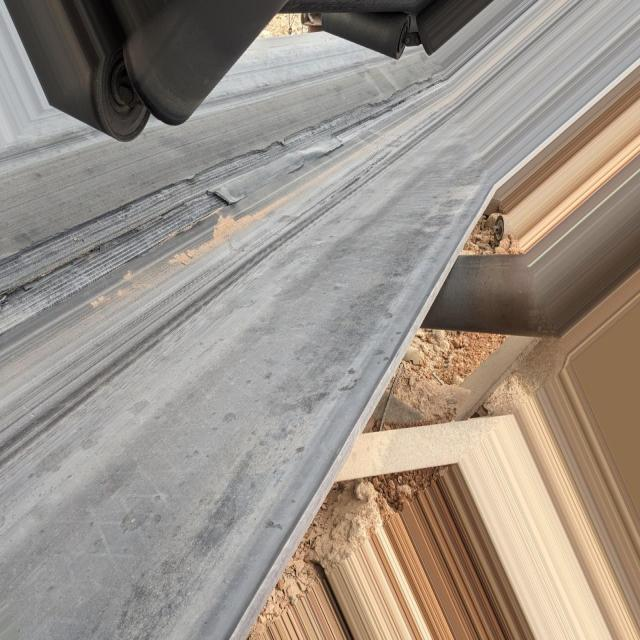Roller: (128, 0, 265, 129), (44, 35, 151, 144), (427, 256, 538, 328), (322, 12, 410, 59), (418, 3, 464, 52)
Tear: (4, 77, 431, 340)
